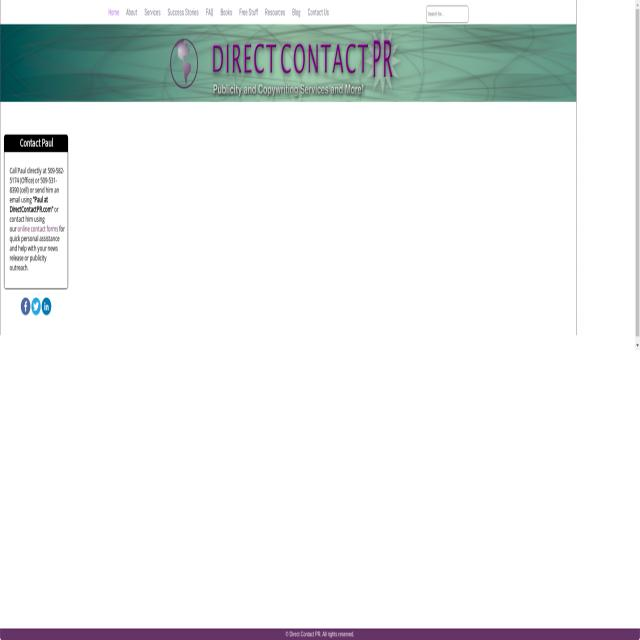button: (21, 298, 30, 315), (42, 298, 51, 315), (32, 298, 40, 315)
field: (426, 6, 468, 22)
